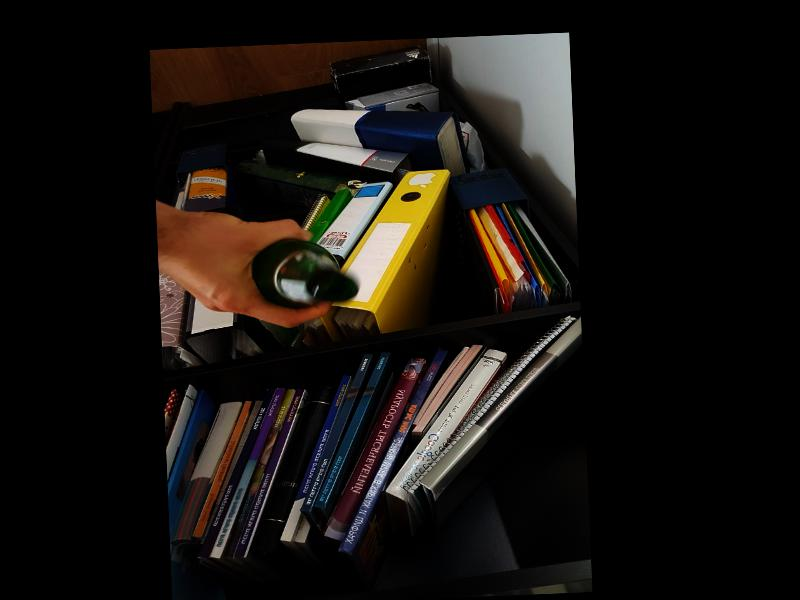Beer: (250, 236, 357, 309)
